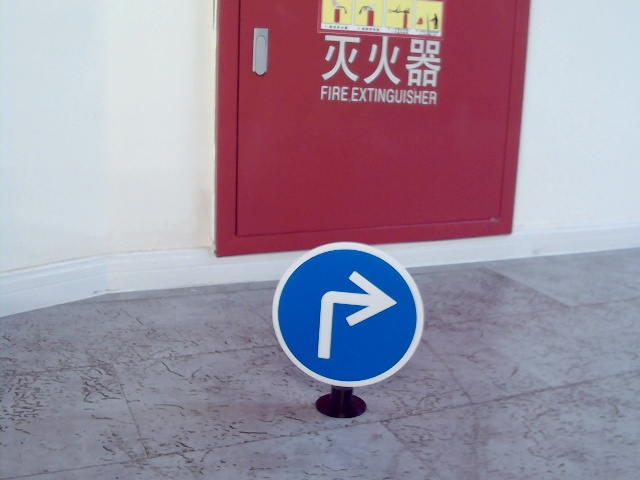turn_right: (307, 268, 396, 364)
